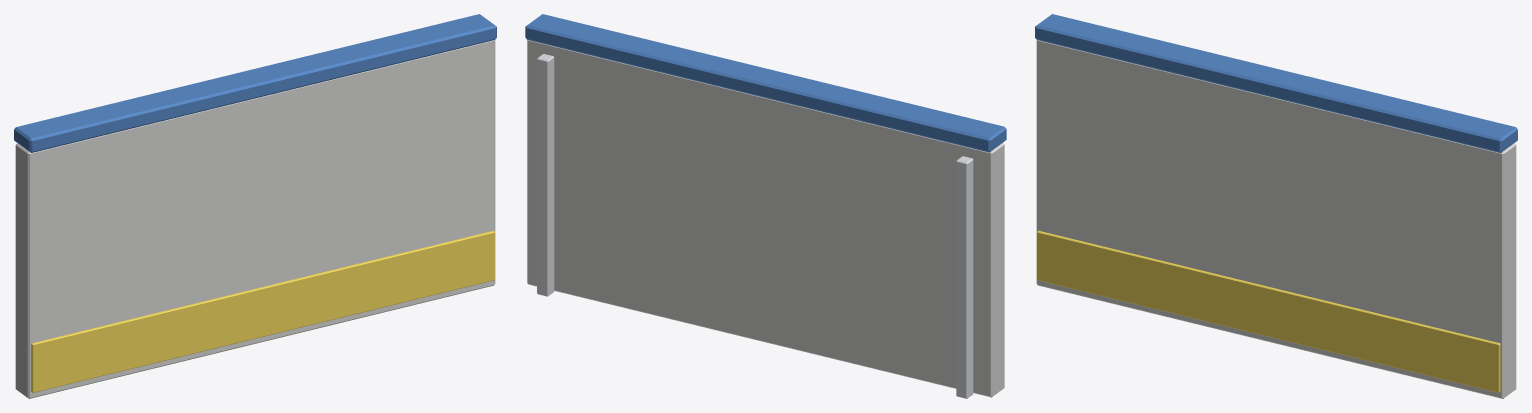
Rendered from board.glb.
3 views of the same model, side by side, from view 1: azimuth 30°, elevation 25°; view 2: azimuth 150°, elevation 25°; view 3: azimuth 330°, elevation 25° (orthographic).
Parts seen in each view (by area): view 1: boards-panel-straight; view 2: boards-panel-straight; view 3: boards-panel-straight.
Part boxes in pixels (<box>): boards-panel-straight: <box>14,14,496,398</box>; boards-panel-straight: <box>525,14,1006,398</box>; boards-panel-straight: <box>1035,14,1517,398</box>.
Bounding box in the file's own units: 2 × 1.07 × 0.1699.
